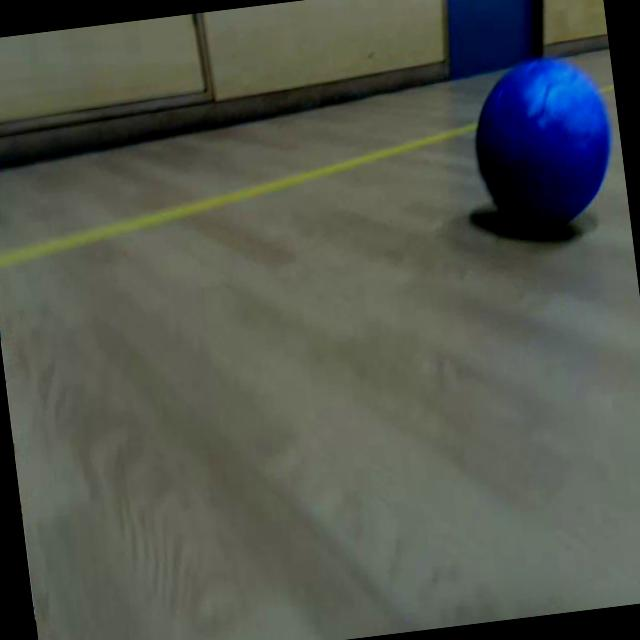blue_ball: (464, 48, 619, 234)
